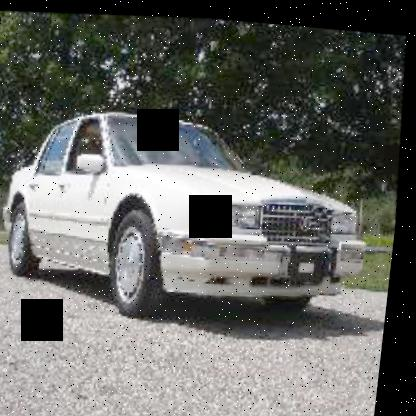not_emergency: (0, 78, 401, 347)
